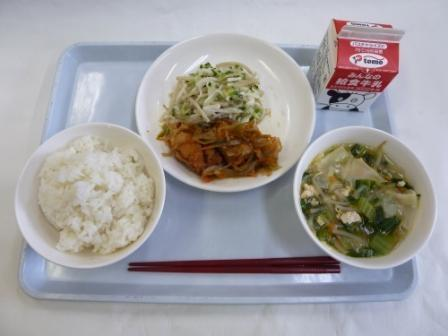Meat: (163, 116, 286, 189)
Milk: (317, 16, 401, 114)
Rice: (14, 127, 160, 255)
Salad: (160, 53, 266, 127)
vegetable soup: (293, 125, 436, 268)
